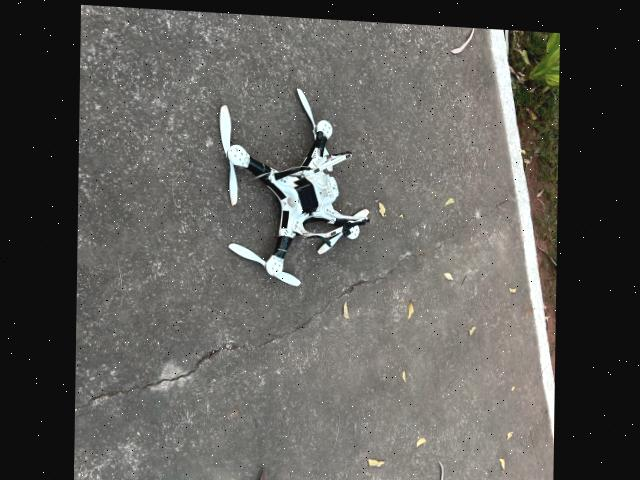drone: (187, 37, 423, 361)
